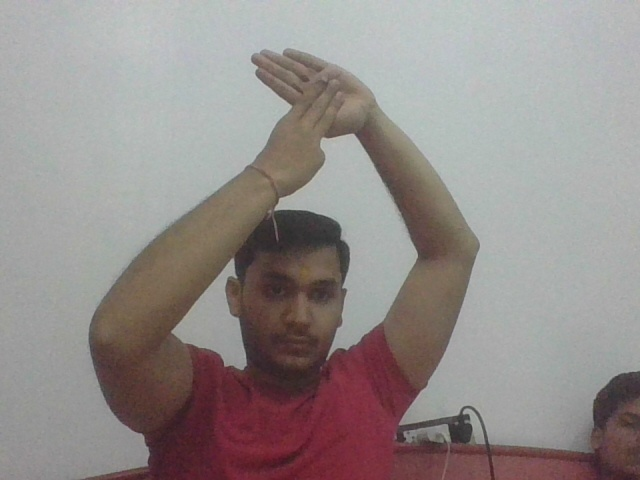M: (249, 40, 371, 165)
